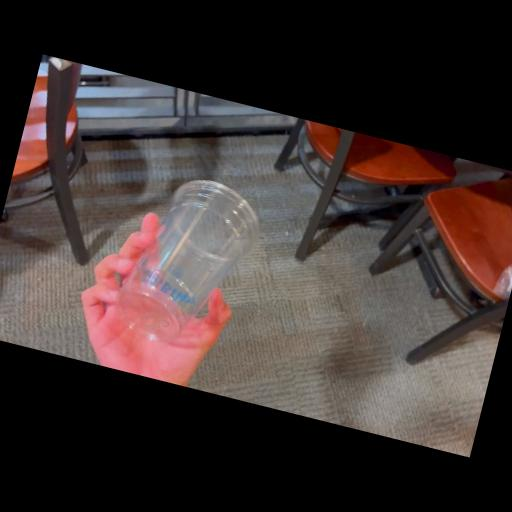lp_plastic_cup: (114, 168, 266, 356)
